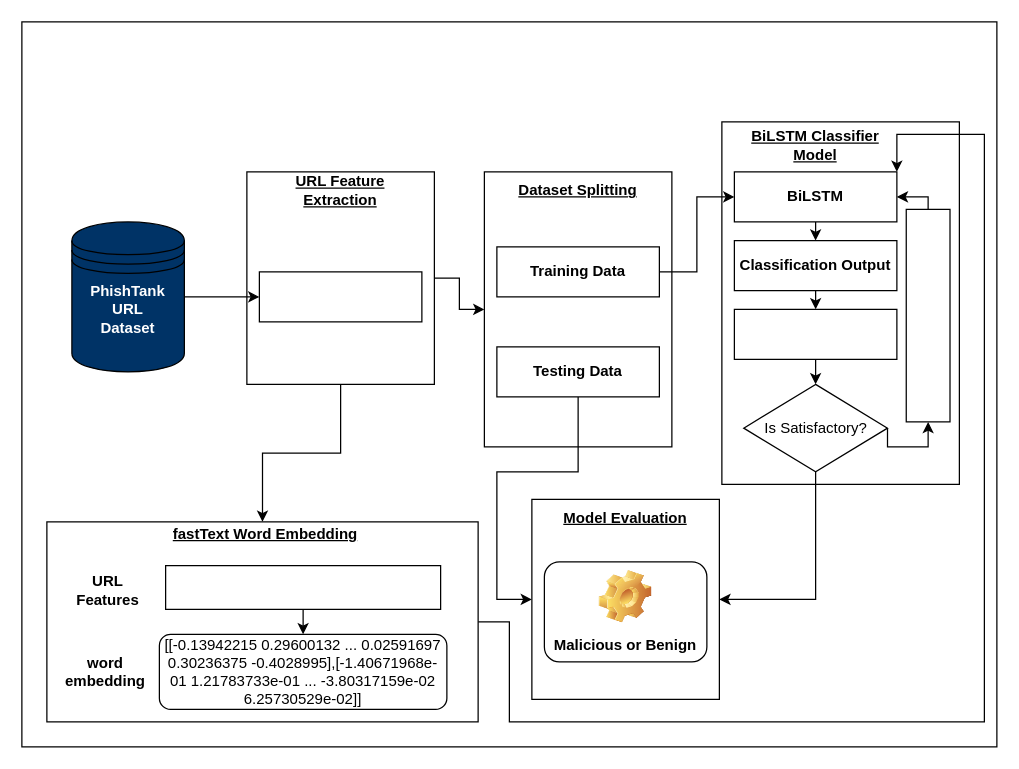
This 1019x769 diagram has some shape labels left out. The box of each missing label's shape, as (x1, y1, x2, y2) in pixels:
Feature Extraction: (258, 271, 422, 322)
Hyperparameter Tuning: (905, 208, 950, 422)
protocol subdomain+domain tld https www sfr-monespaceclient com: (164, 564, 441, 609)
Validation Phase: (733, 308, 897, 359)
